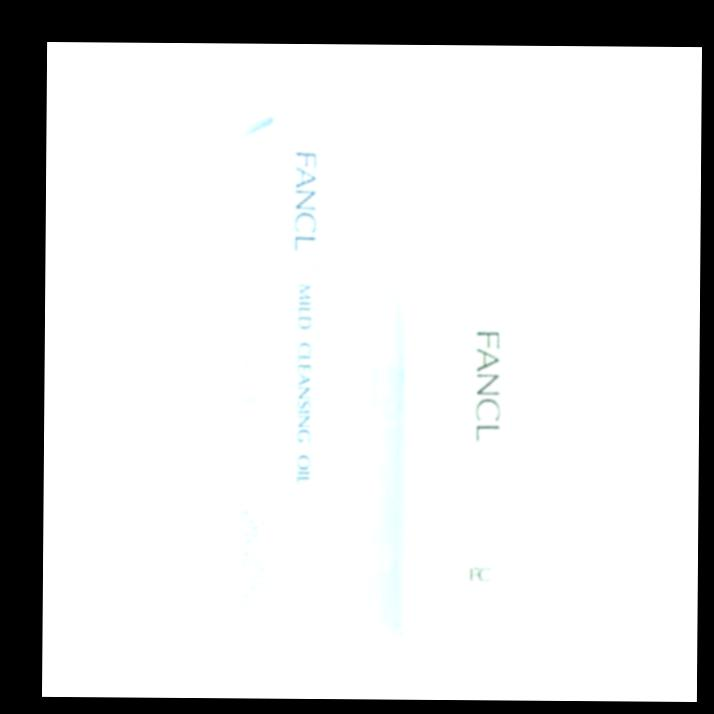cosmetic: (411, 140, 560, 631)
